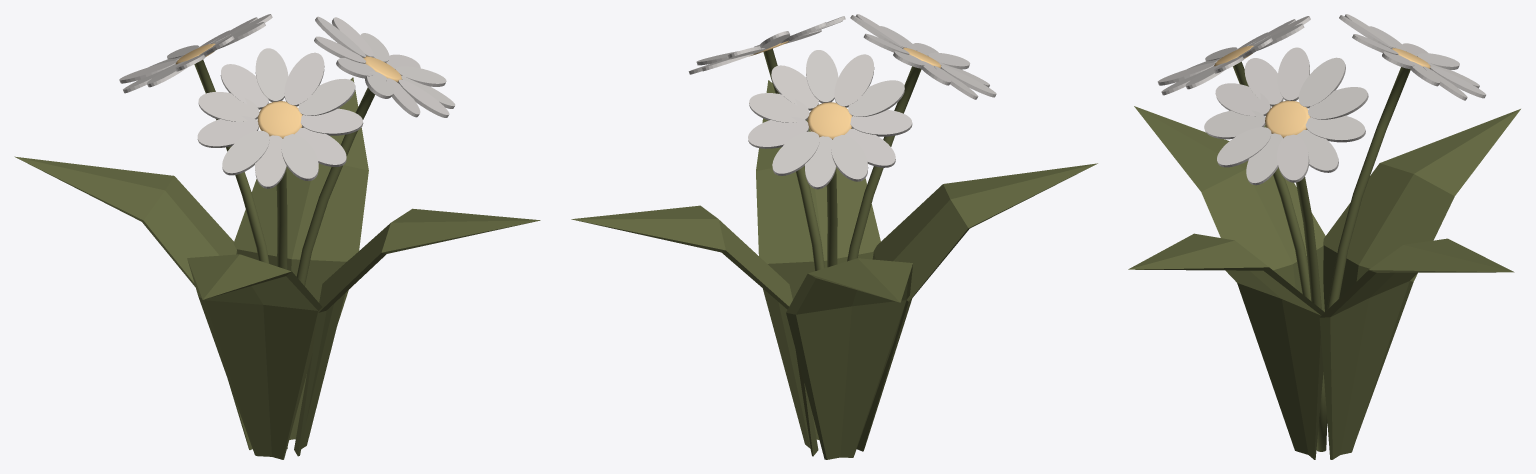
File: Assets.fbx_Flower_Withe.fbx
3 renders of one model, left to right at view 1: azimuth 30°, elevation 25°; view 2: azimuth 150°, elevation 25°; view 3: azimuth 270°, elevation 25°, orthographic.
Parts seen in each view (by area): view 1: Blatt.055, Blume.010, Blatt.058, Blatt.056, Blatt.057, Blume.009, Blume.011; view 2: Blatt.056, Blume.011, Blatt.055, Blatt.057, Blatt.058, Blume.010, Blume.009; view 3: Blume.009, Blatt.056, Blatt.058, Blatt.057, Blatt.055, Blume.011, Blume.010.
Boxes of the visible parts, x1,y1,x2,y2 form: Blatt.055: (187, 254, 321, 459); Blume.010: (197, 48, 363, 269); Blatt.058: (233, 77, 368, 439); Blatt.056: (14, 156, 252, 449); Blatt.057: (294, 208, 540, 456); Blume.009: (287, 16, 455, 448); Blume.011: (119, 14, 272, 263); Blatt.056: (786, 258, 912, 459); Blume.011: (748, 50, 912, 267); Blatt.055: (856, 163, 1097, 451); Blatt.057: (756, 80, 880, 439); Blatt.058: (571, 205, 818, 456); Blume.010: (847, 14, 996, 261); Blume.009: (688, 16, 845, 270); Blume.009: (1204, 47, 1368, 451); Blatt.056: (1323, 109, 1520, 430); Blatt.058: (1319, 238, 1514, 459); Blatt.057: (1128, 233, 1324, 459); Blatt.055: (1134, 106, 1325, 311); Blume.011: (1324, 14, 1486, 451); Blume.010: (1157, 16, 1310, 300).
Bounding box in the file's own units: 19.81 × 22.91 × 19.81.
